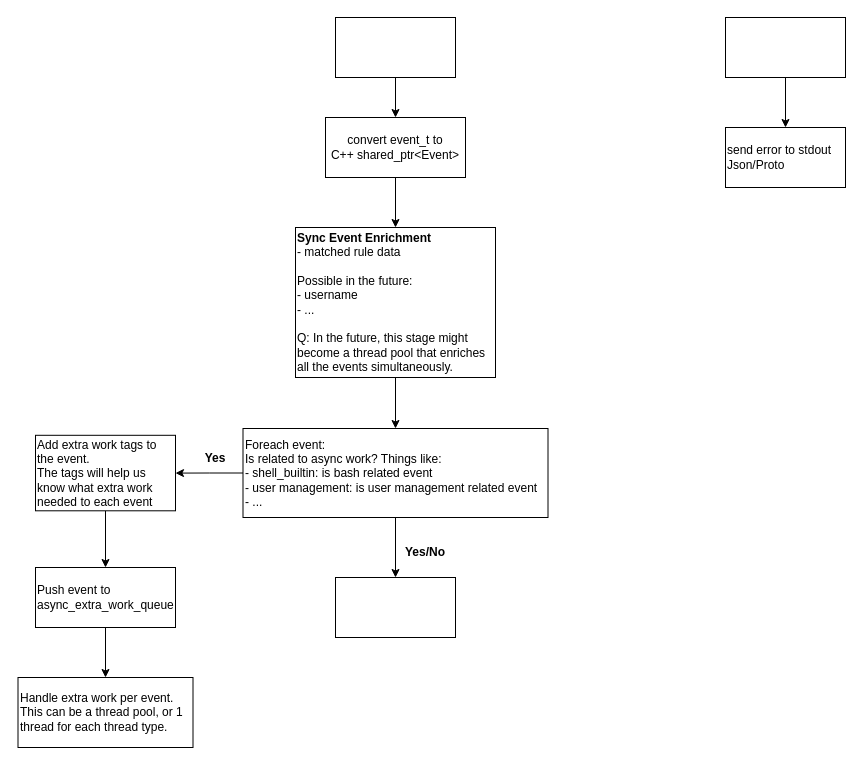
Some shapes in this 863 by 765 pixel diagram are drawn without their labels. The shapes that lost their labels are listed below. From the top down, each one's centre as x and y in pixels, then its label:
At (395,47): "new event_t".
At (785,47): "new error_t".
At (395,607): "send event to stdout Json/Proto".
